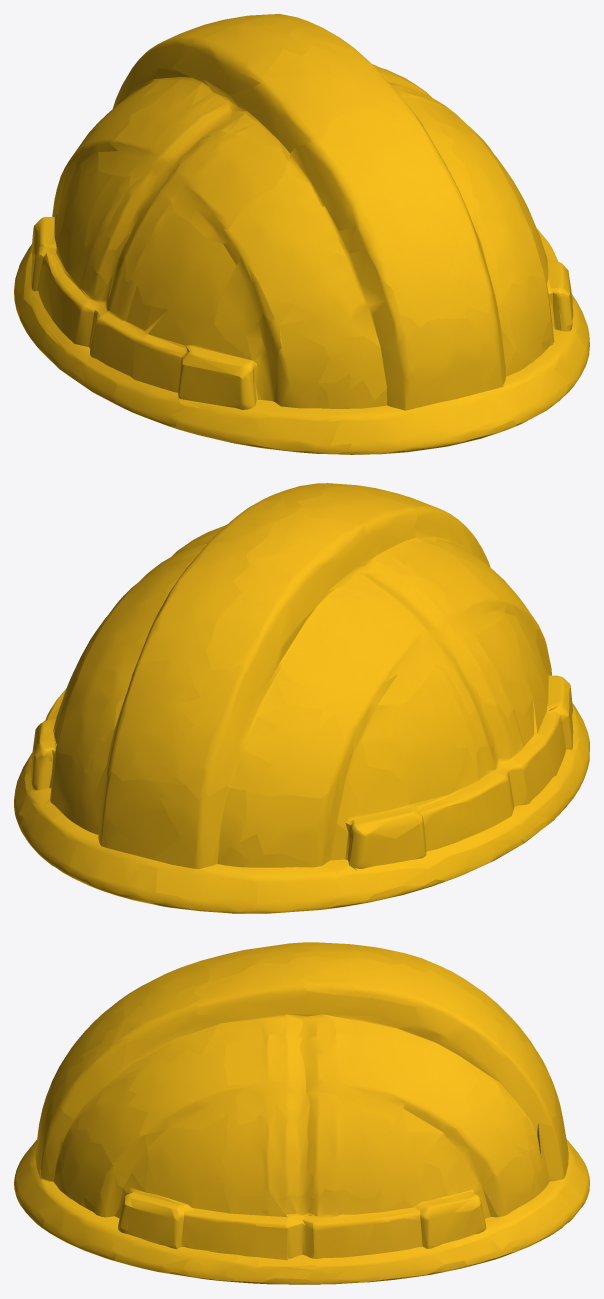
The model's file is headwear_hardhat_v2.glb.
The picture shows the model from 3 angles, top to bottom: view 1: azimuth 30°, elevation 25°; view 2: azimuth 150°, elevation 25°; view 3: azimuth 270°, elevation 25°; orthographic projection. The views are drawn at different scales.
Parts seen in each view (by area): view 1: Mesh_0; view 2: Mesh_0; view 3: Mesh_0.
Part boxes in pixels (x1=…): Mesh_0: x1=14, y1=14, x2=589, y2=454; Mesh_0: x1=14, y1=483, x2=589, y2=913; Mesh_0: x1=14, y1=942, x2=589, y2=1284.
Size of the model in its own units: 1.52 by 0.8485 by 1.9.
1 material, 1 textured.
